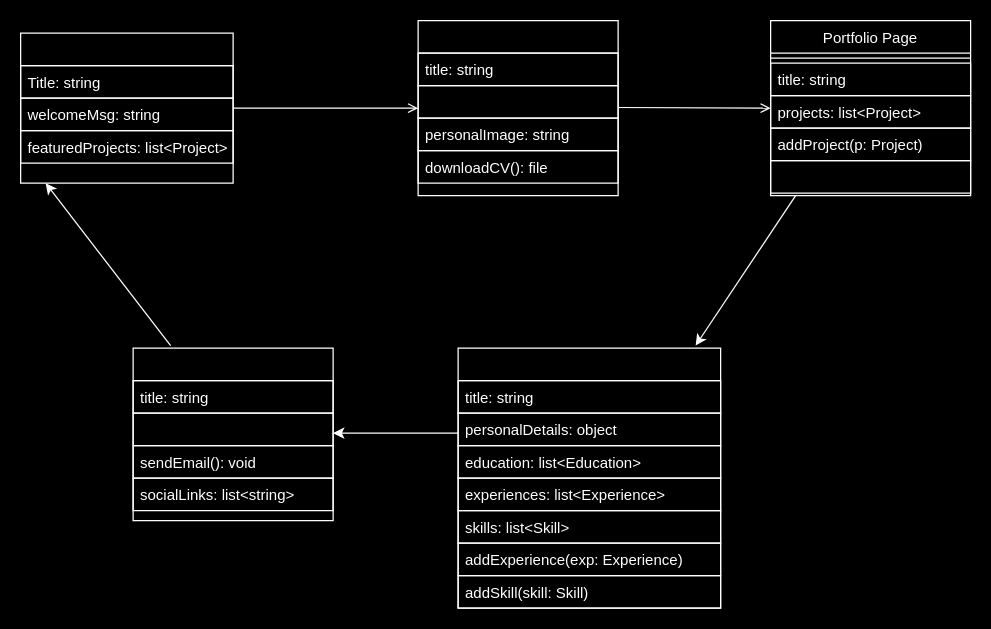
This 991x629 diagram has some shape labels left out. Here are the shapes that lost their labels. From the top down, the box of each, then its label:
(19, 32, 233, 183): Home Page
(417, 84, 618, 118): biography: string
(417, 19, 618, 196): AboutMe Page
(769, 159, 971, 193): removeProject(p: Project)
(132, 412, 333, 446): contactForm: Form
(132, 347, 333, 521): Contact Page
(457, 347, 721, 608): Resume Page
